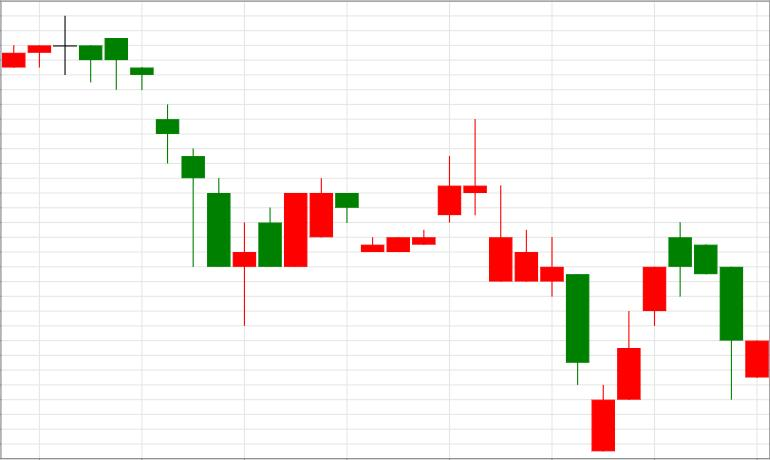three_white_soldiers_rise: (488, 184, 666, 451)
